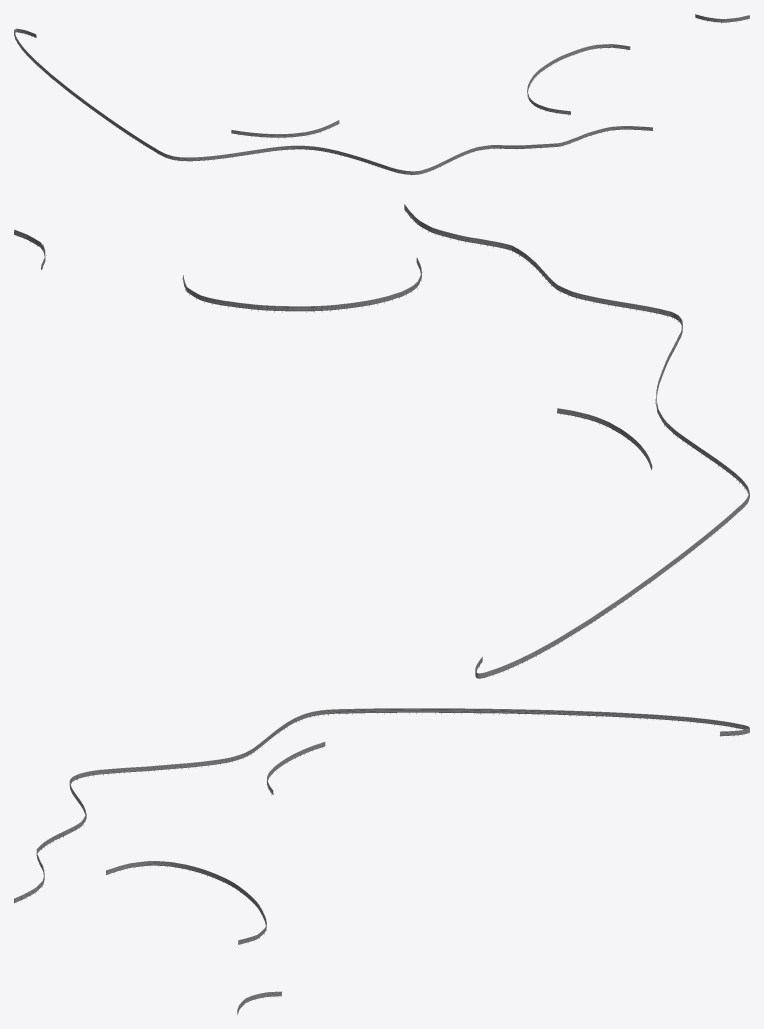
Rendered from RightRails.fbx.
3 views of the same model, one above another, from view 1: azimuth 30°, elevation 25°; view 2: azimuth 150°, elevation 25°; view 3: azimuth 270°, elevation 25° (orthographic). The views are drawn at different scales.
Visible parts, largest first — view 1: RightRails; view 2: RightRails; view 3: RightRails.
Boxes of the visible parts, <box> form: RightRails: <box>14,14,749,175</box>; RightRails: <box>14,204,749,678</box>; RightRails: <box>14,708,749,1014</box>.
Size of the model in its own units: 69973 by 4607 by 63938.
Materials: 1 (1 with a texture image).
